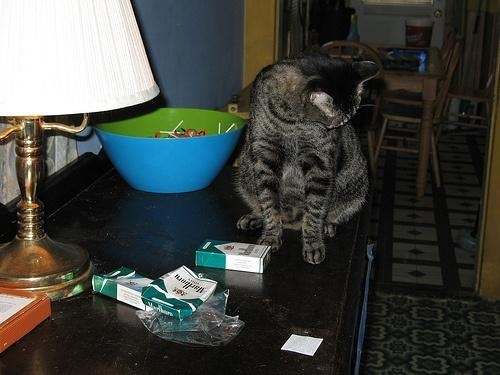cat: (232, 51, 383, 267)
chair: (369, 34, 465, 188)
diningtable: (304, 45, 447, 195)
